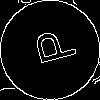P: (25, 25, 78, 69)
